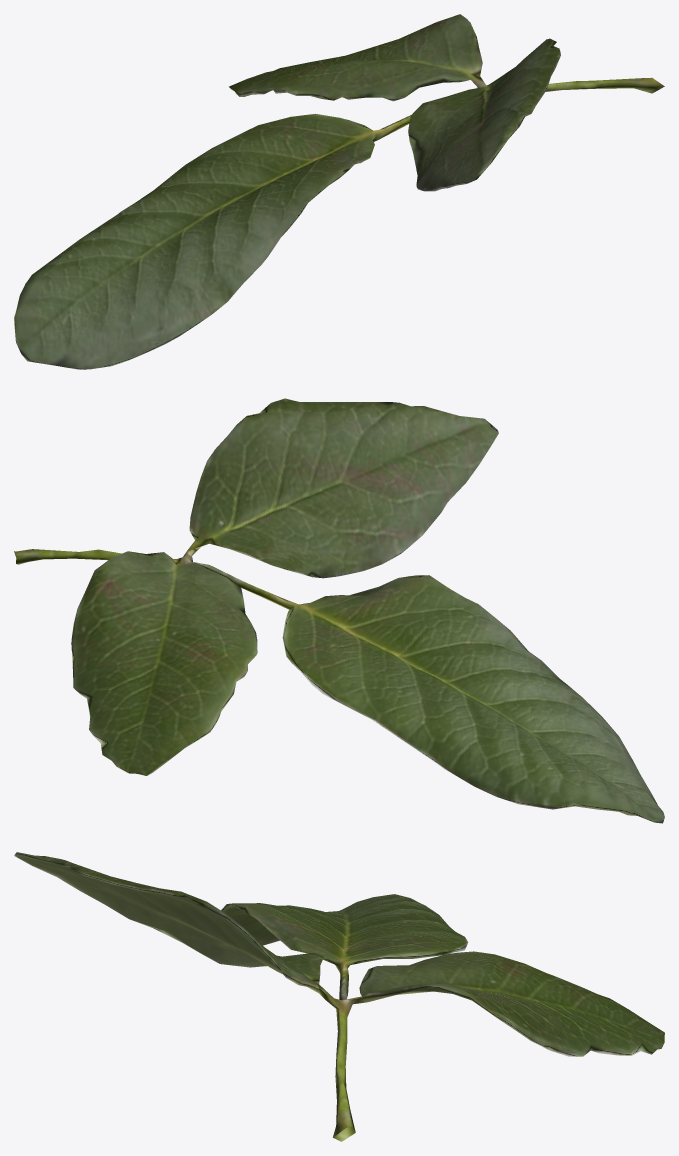
Rendered from rosaleaveScanned1.fbx.
The picture shows the model from 3 angles, top to bottom: view 1: azimuth 30°, elevation 25°; view 2: azimuth 150°, elevation 25°; view 3: azimuth 270°, elevation 25°; orthographic projection. The views are drawn at different scales.
Parts seen in each view (by area): view 1: rosaleaveScanned2; view 2: rosaleaveScanned2; view 3: rosaleaveScanned2.
Part boxes in pixels (x1,y1,x2,y2): rosaleaveScanned2: [14, 14, 664, 369]; rosaleaveScanned2: [14, 398, 664, 823]; rosaleaveScanned2: [14, 852, 664, 1141].
Size of the model in its own units: 0.756 by 0.2854 by 0.6076.
